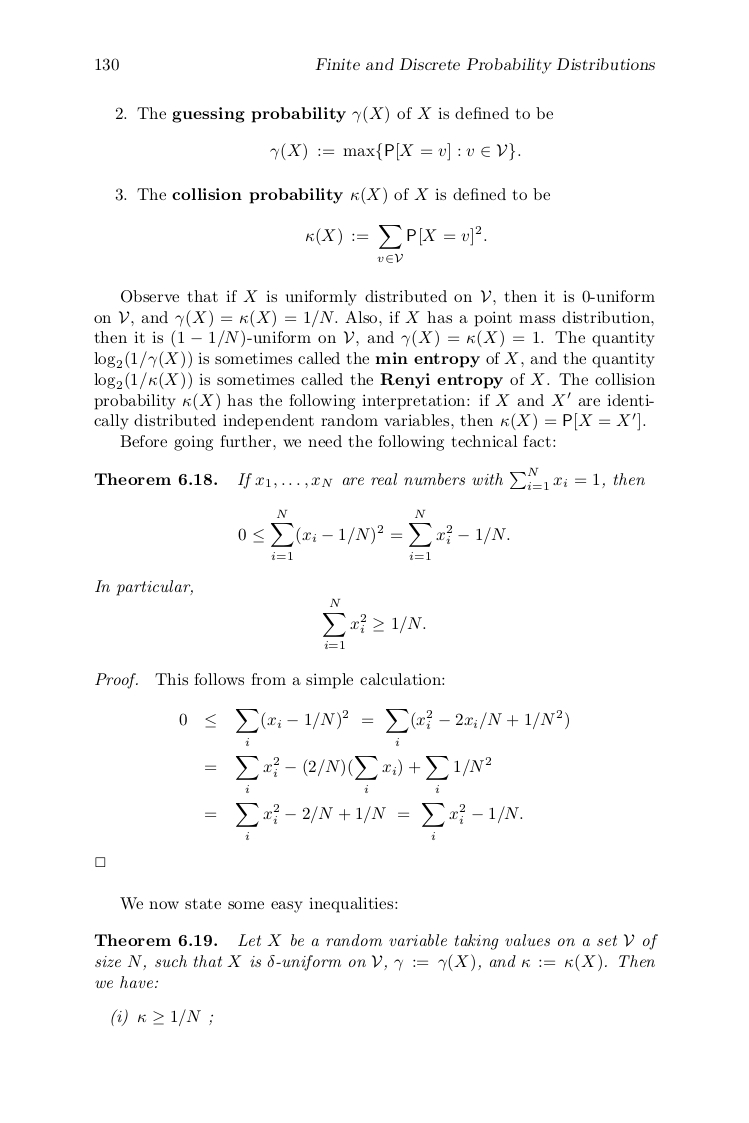formula: (179, 709, 568, 745), (238, 509, 509, 559), (205, 803, 522, 839), (205, 756, 490, 792), (306, 225, 486, 262), (323, 598, 425, 648), (270, 142, 520, 161), (111, 1008, 213, 1027)
